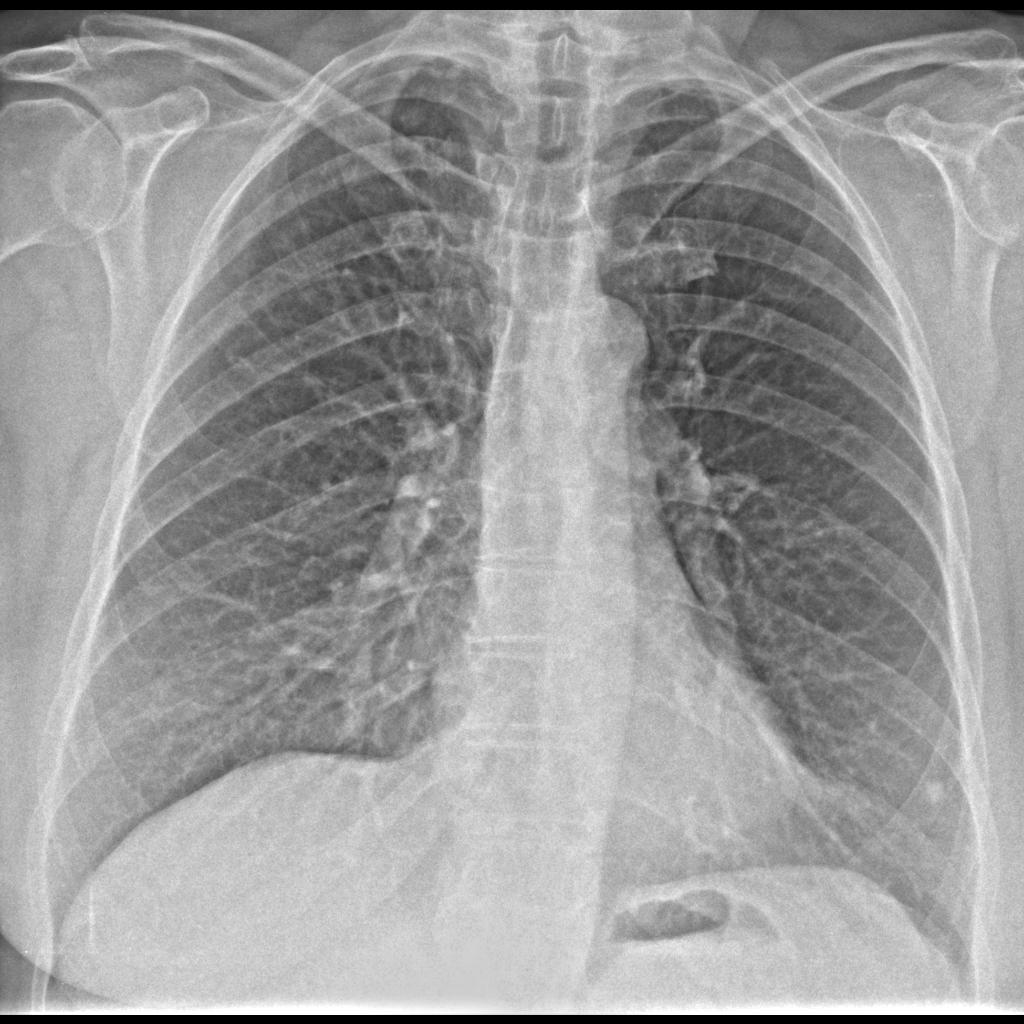Nodule: (912, 767, 957, 814)
